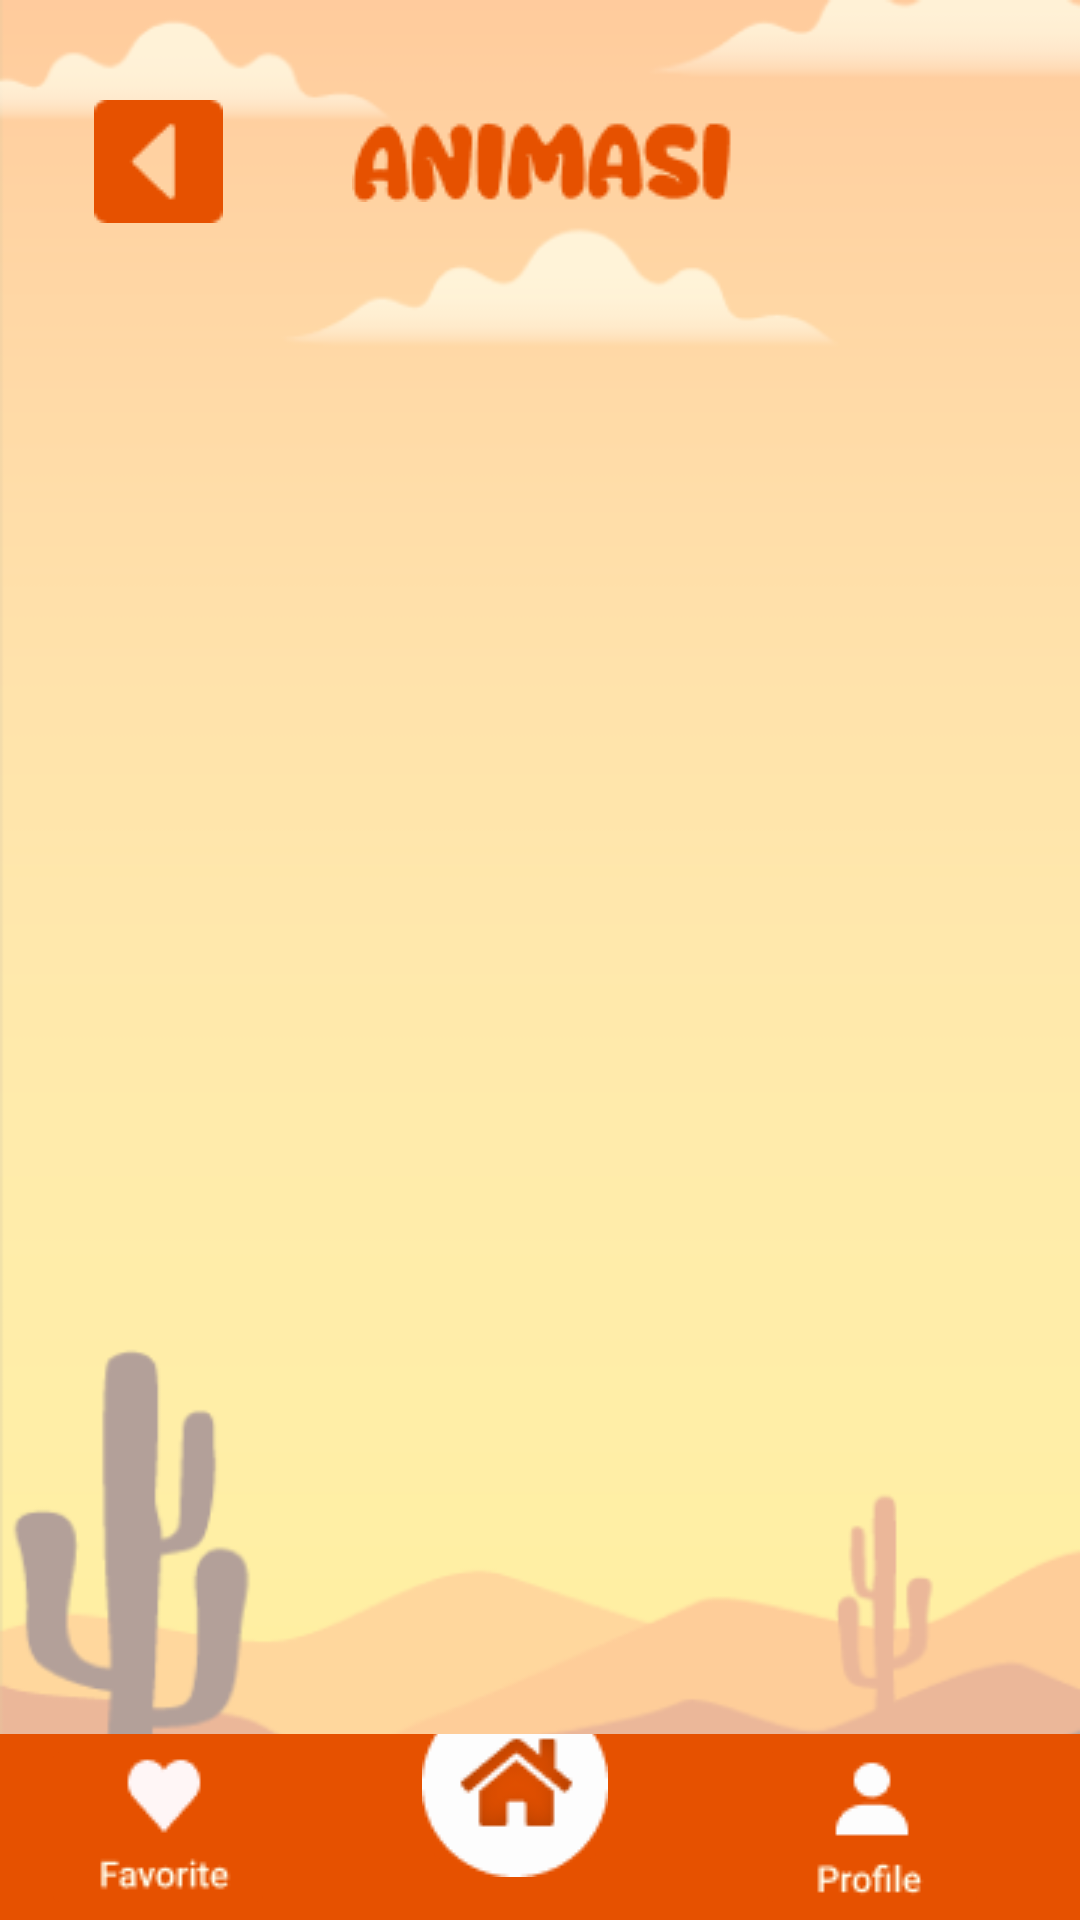

Icon click points for this 1080×1920 phone screenshot, format (x=x, y=y):
back: (x=158, y=146)
